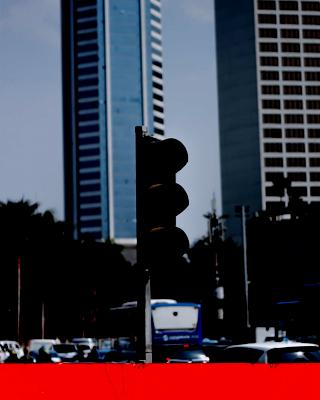International Road Signal Light: (140, 134, 190, 273)
